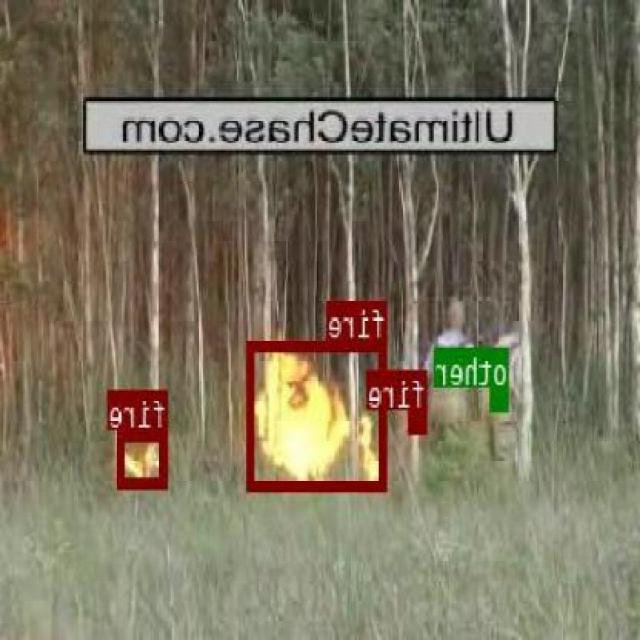Fire: (248, 338, 388, 488), (120, 430, 168, 486), (409, 408, 428, 432)
